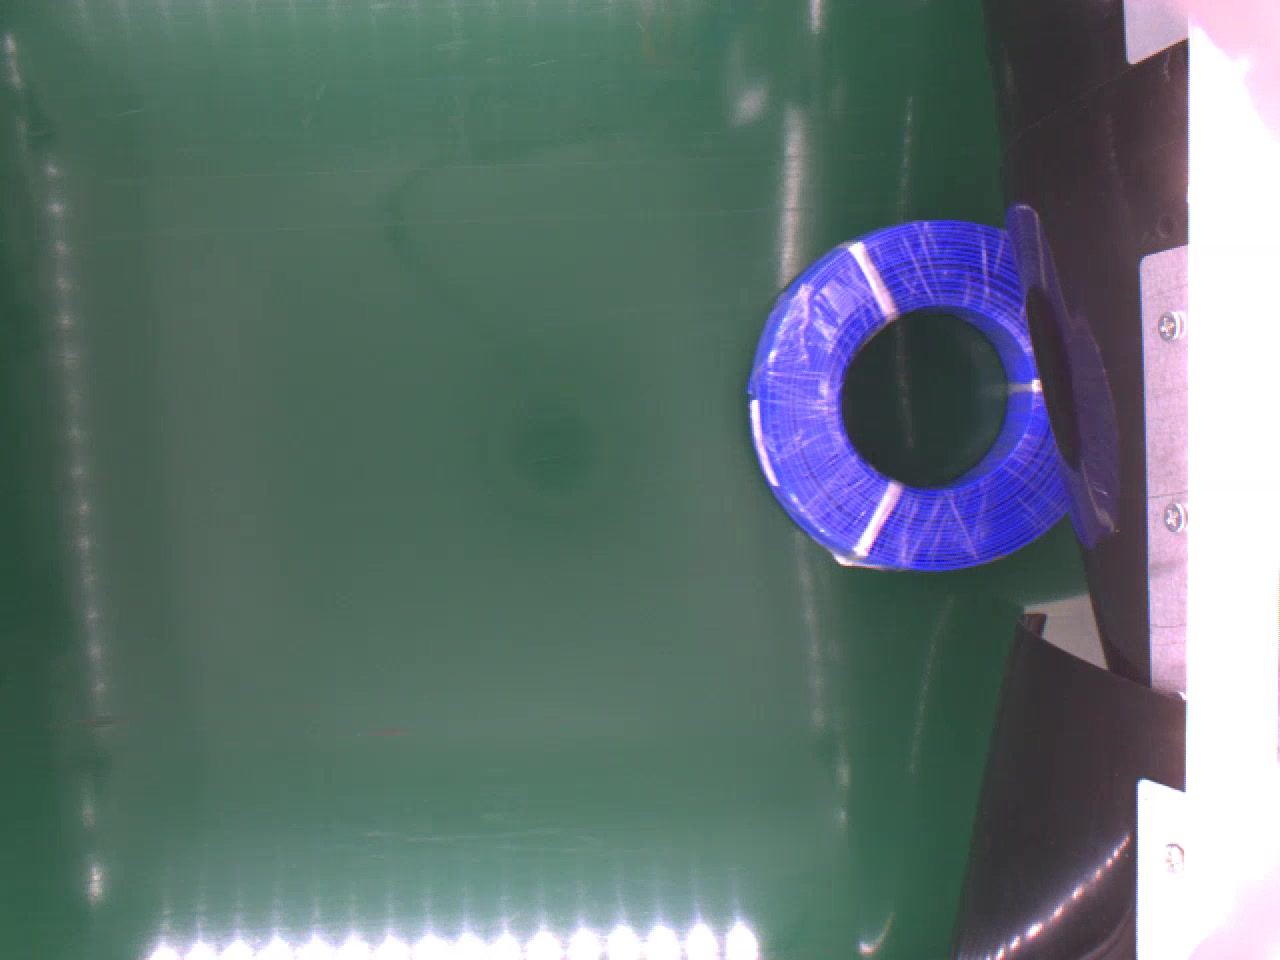blue: (748, 213, 1074, 571)
